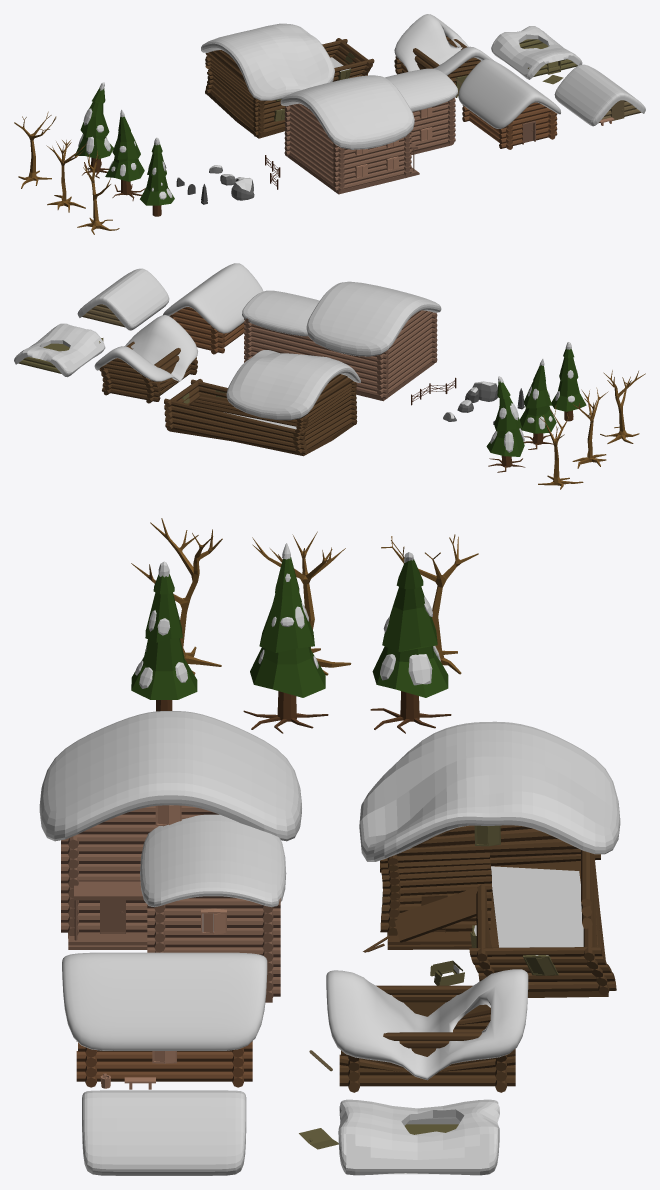
Rendered from Homes.assets (5).fbx.
The picture shows the model from 3 angles, top to bottom: view 1: azimuth 30°, elevation 25°; view 2: azimuth 150°, elevation 25°; view 3: azimuth 270°, elevation 25°; orthographic projection. The views are drawn at different scales.
Visible parts, largest first — view 1: Hous_high_alive, Hous_high_dead, Hous_mid_alive, Hous_mid_dead, Hous_low_alive, Hous_low_dead, Fir_3, Fir_2, Fir_1, Tree_naked_2, Tree_naked_1, Tree_naked_3 (+1 smaller); view 2: Hous_high_alive, Hous_high_dead, Hous_mid_dead, Hous_mid_alive, Hous_low_alive, Hous_low_dead, Fir_3, Fir_2, Fir_1, Tree_naked_1, Tree_naked_2, Tree_naked_3 (+1 smaller); view 3: Hous_high_dead, Hous_high_alive, Hous_mid_alive, Hous_mid_dead, Hous_low_alive, Hous_low_dead, Fir_3, Fir_2, Fir_1, Tree_naked_1, Tree_naked_2, Tree_naked_3.
Part boxes in pixels (x1,y1,x2,y2): Hous_high_alive: (280, 68, 457, 194); Hous_high_dead: (201, 23, 374, 138); Hous_mid_alive: (458, 59, 560, 149); Hous_mid_dead: (394, 14, 493, 97); Hous_low_alive: (554, 64, 645, 126); Hous_low_dead: (491, 26, 582, 84); Fir_3: (75, 82, 113, 178); Fir_2: (105, 109, 145, 200); Fir_1: (140, 137, 174, 216); Tree_naked_2: (46, 140, 87, 212); Tree_naked_1: (77, 150, 119, 234); Tree_naked_3: (14, 111, 56, 188); Hous_high_alive: (242, 281, 441, 401); Hous_high_dead: (164, 350, 360, 456); Hous_mid_dead: (94, 315, 197, 403); Hous_mid_alive: (163, 263, 263, 354); Hous_low_alive: (77, 268, 169, 330); Hous_low_dead: (14, 323, 105, 377); Fir_3: (486, 376, 525, 472); Fir_2: (519, 359, 556, 449); Fir_1: (551, 342, 586, 421); Tree_naked_1: (600, 370, 645, 443); Tree_naked_2: (572, 387, 608, 468); Tree_naked_3: (538, 405, 583, 489); Hous_high_dead: (359, 721, 620, 997); Hous_high_alive: (39, 711, 301, 1002); Hous_mid_alive: (62, 952, 267, 1089); Hous_mid_dead: (309, 969, 528, 1092); Hous_low_alive: (82, 1090, 246, 1175); Hous_low_dead: (299, 1099, 499, 1175); Fir_3: (370, 552, 451, 733); Fir_2: (243, 543, 328, 733); Fir_1: (131, 561, 197, 711); Tree_naked_1: (131, 518, 222, 674); Tree_naked_2: (252, 531, 351, 675); Tree_naked_3: (381, 534, 478, 674).
Bounding box in the file's own units: 11664 × 1820 × 5367.
